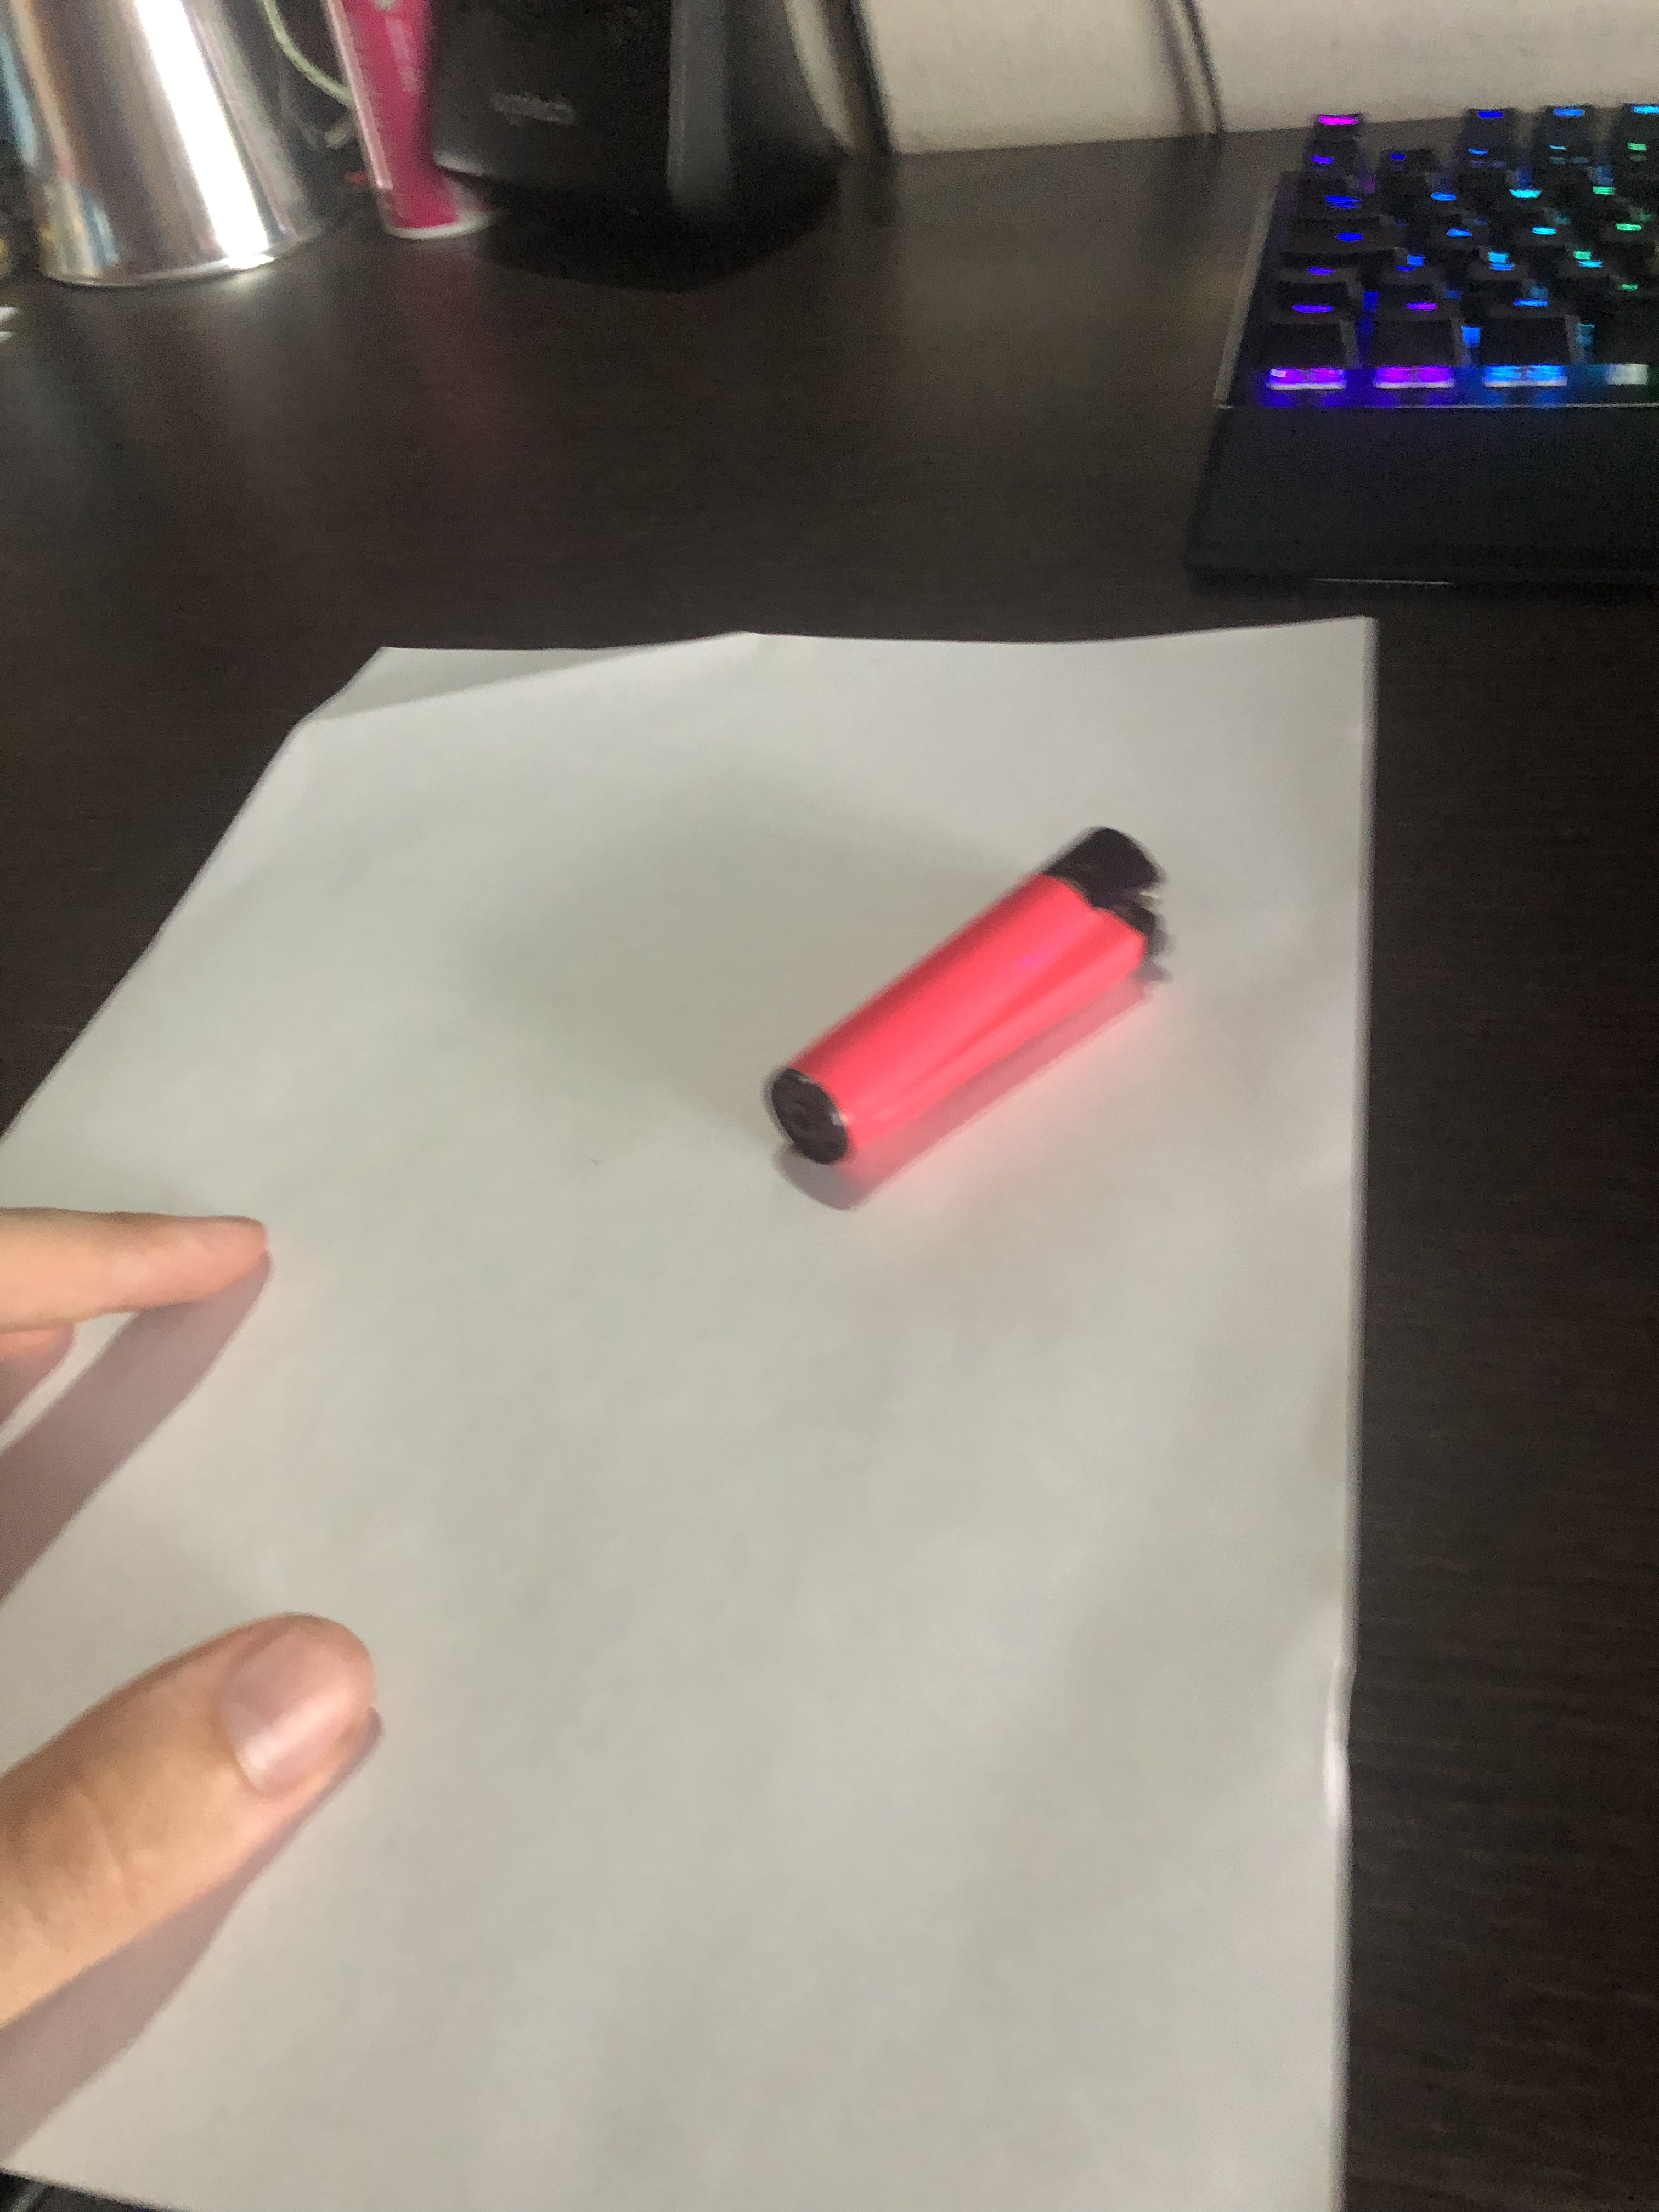Mechero: (767, 810, 1180, 1193)
